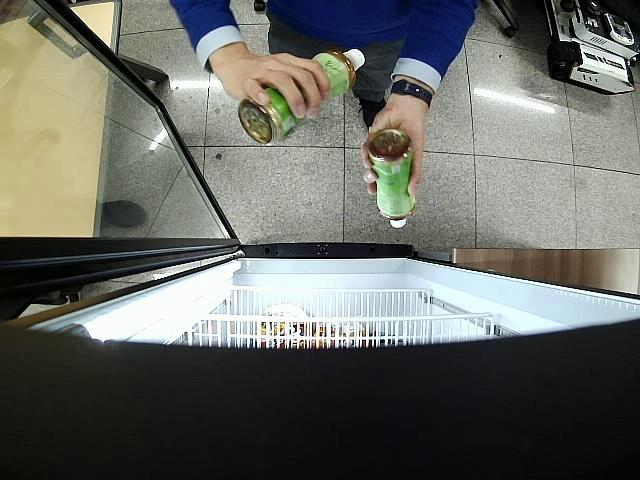19_17cha: (239, 49, 365, 146), (368, 130, 417, 228)
